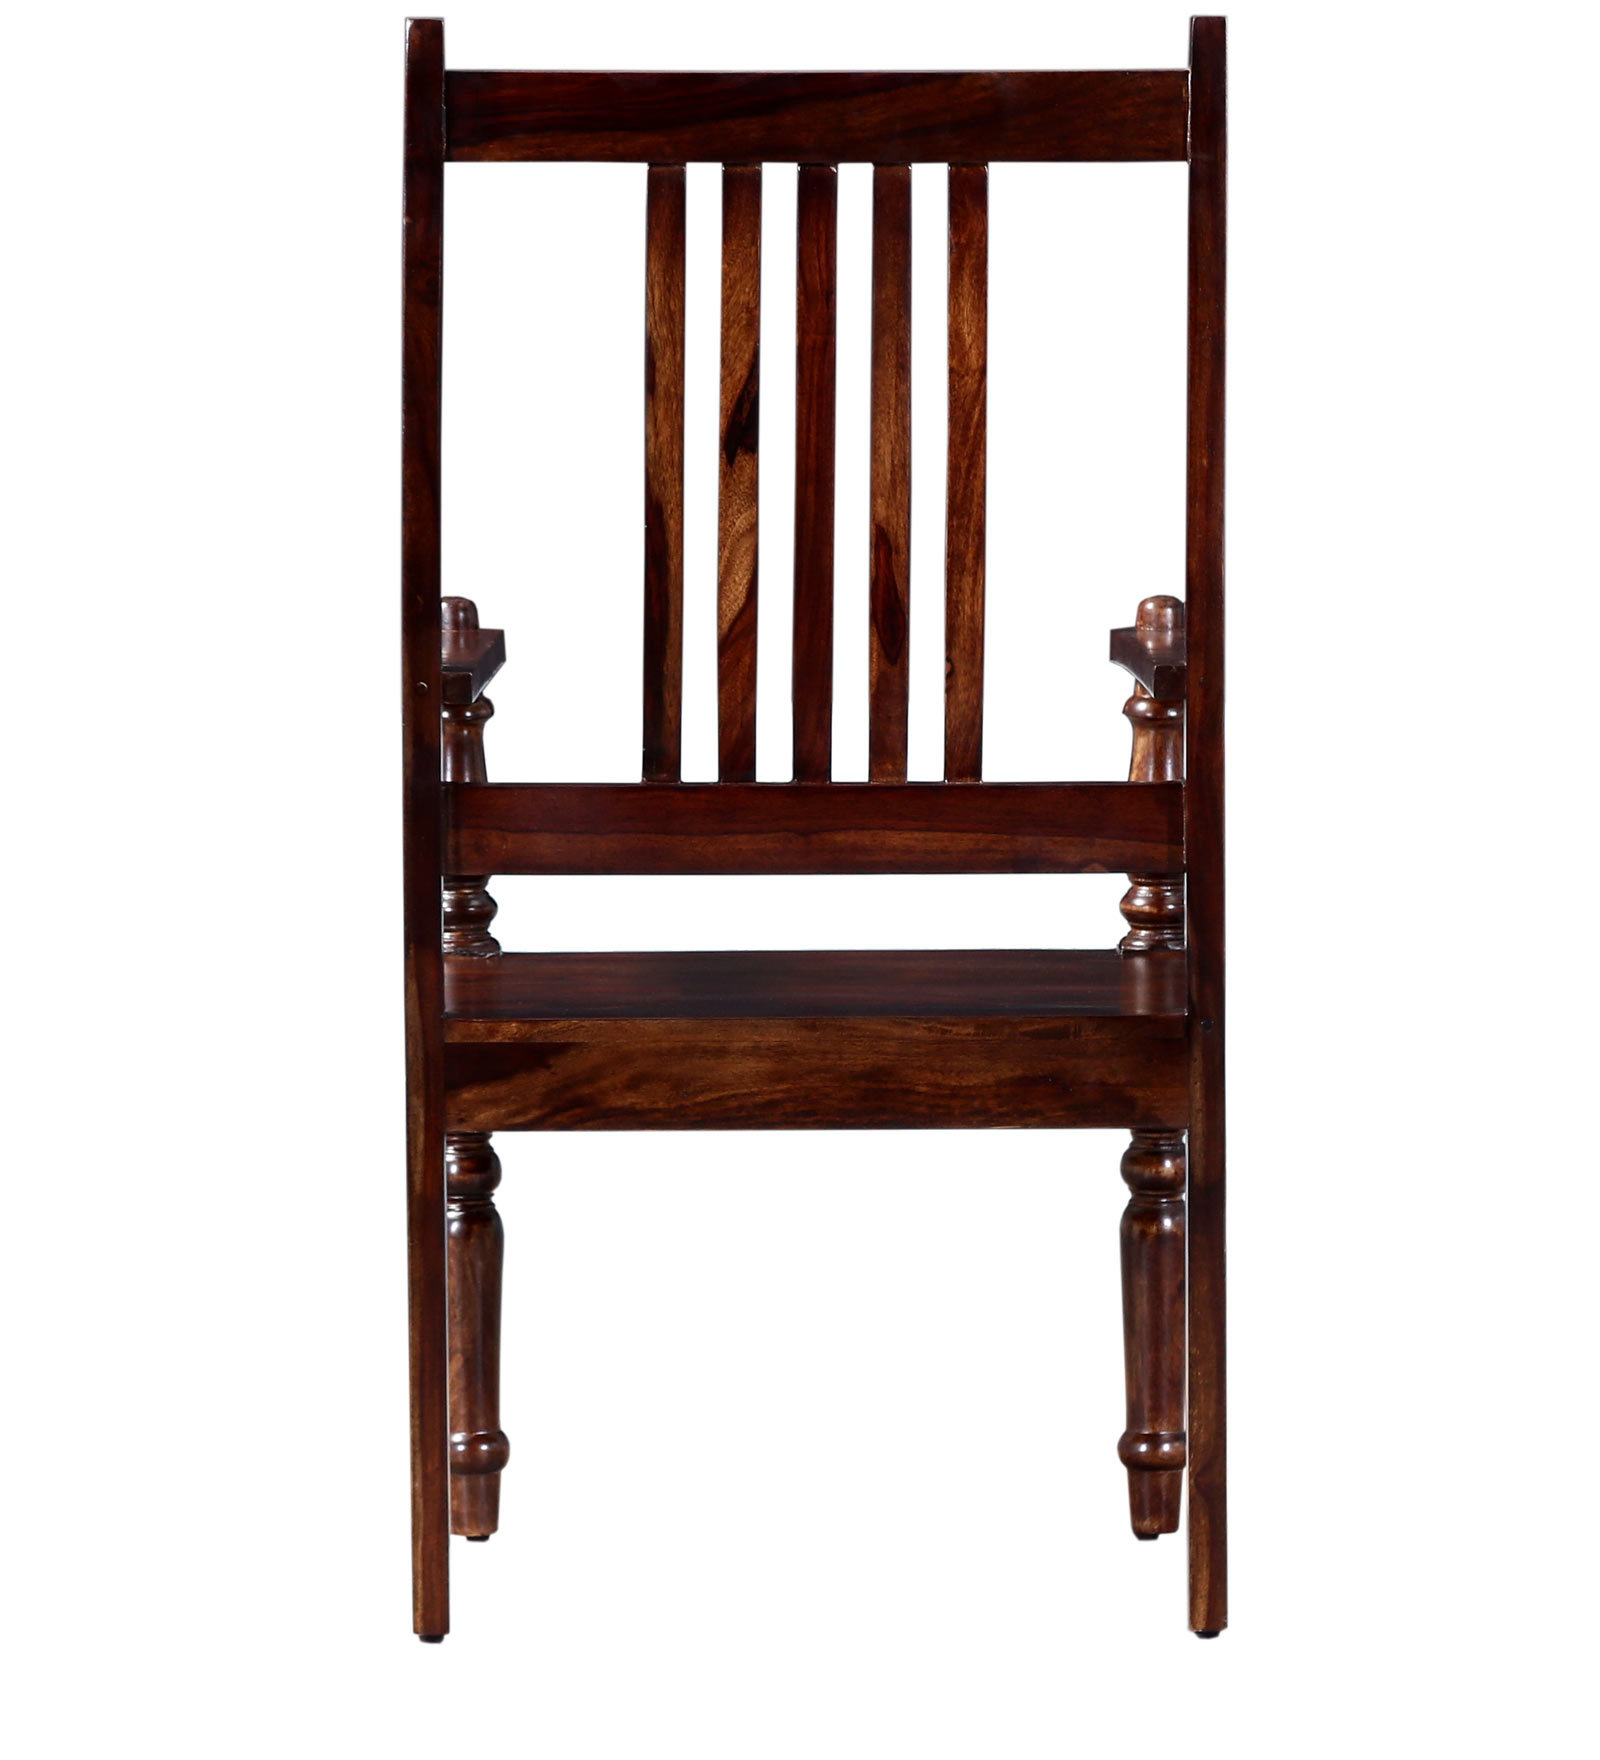Raylestone Arm Chair in Provincial Teak Finish by Amberville: (300, 25, 1375, 1665)
